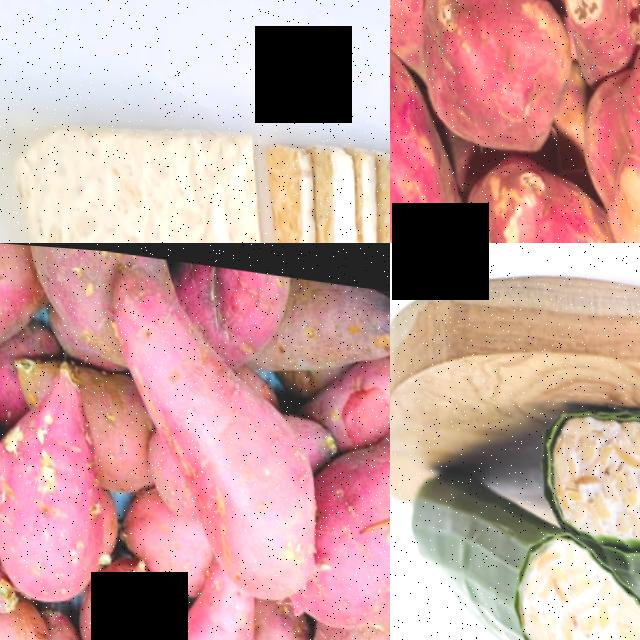sweet potato: (161, 357, 330, 601), (0, 350, 114, 607), (402, 0, 576, 158), (293, 399, 390, 627), (97, 246, 212, 430), (558, 18, 640, 243), (437, 152, 611, 243), (390, 32, 446, 243), (157, 563, 257, 640)
tempeh: (0, 94, 276, 243), (538, 401, 640, 560), (494, 534, 640, 640), (245, 133, 323, 243), (292, 137, 364, 243), (352, 141, 390, 243)
